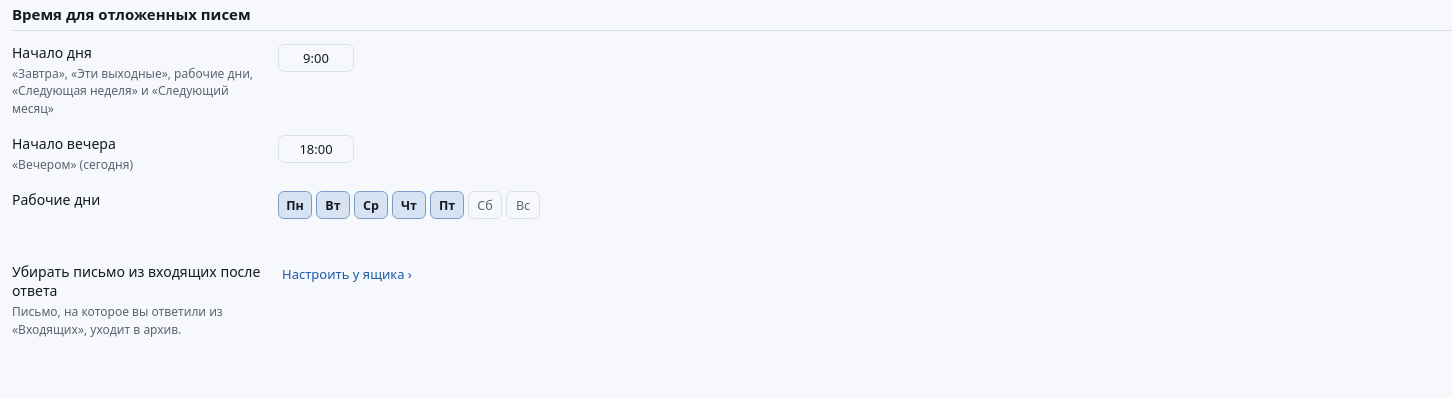
Test: two mailboxes of one name (#102) › both stand in the menu of the link
Click the button with class "lnk".
click(347, 274)  # box [278,263,416,285]
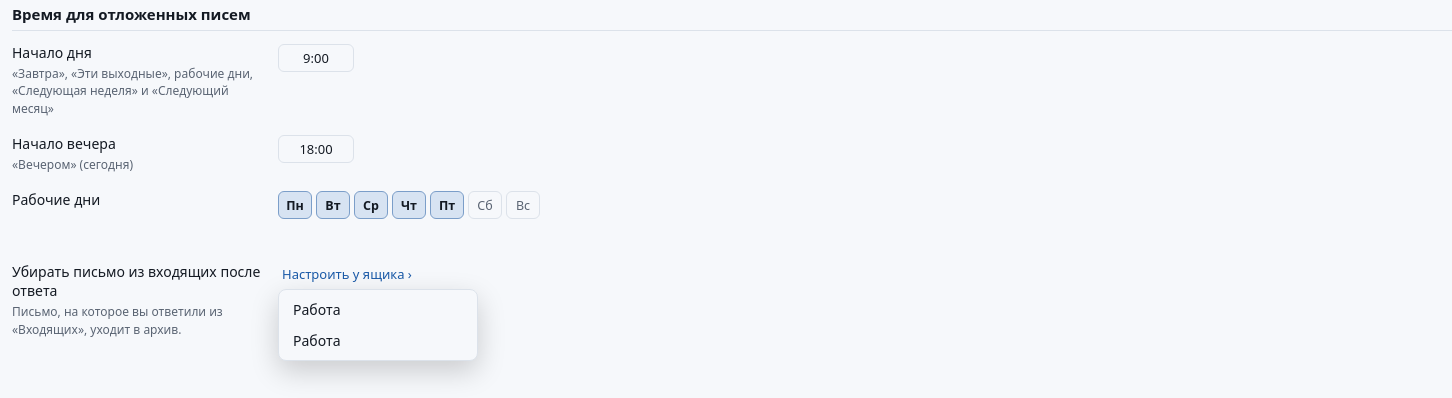
Now the number of menu items is 2, box [283,294,473,325]; [283,325,473,356]
